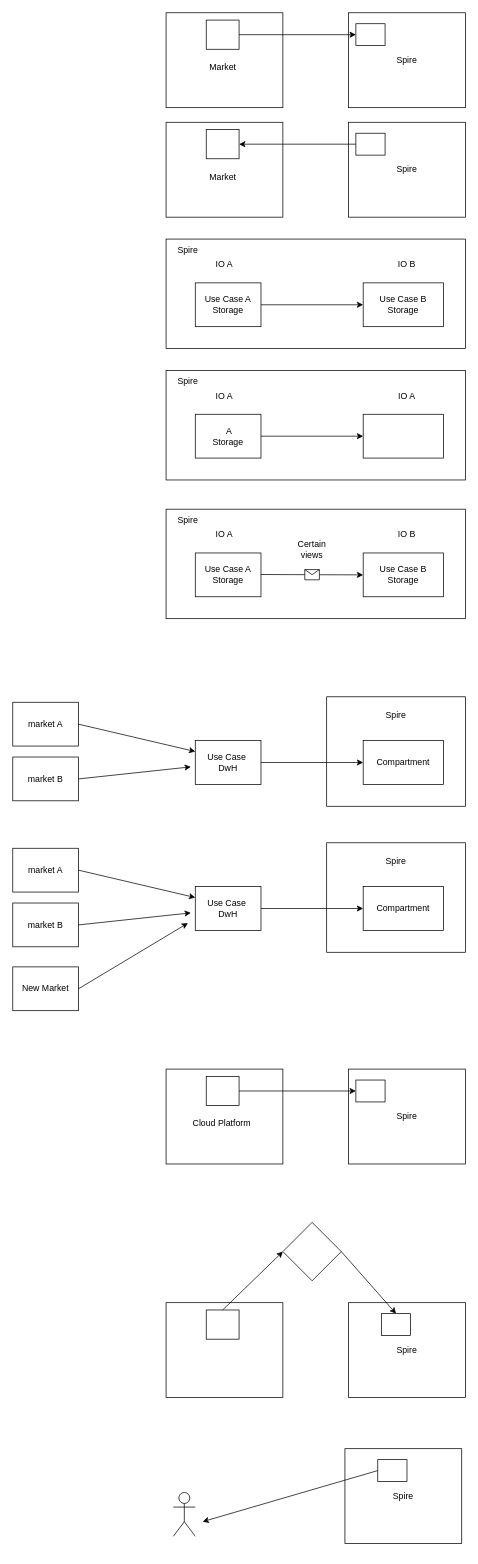
Some shapes in this 478 by 1564 pixel diagram are drawn without their labels. Each missing label, with the box of its shape:
Actor: (173, 1492, 195, 1536)
B Storage: (362, 414, 443, 458)
DDX: (282, 1222, 341, 1281)
